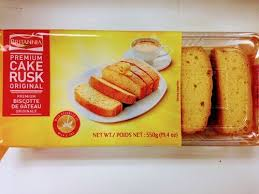Britania-toast-small: (3, 29, 259, 149)
